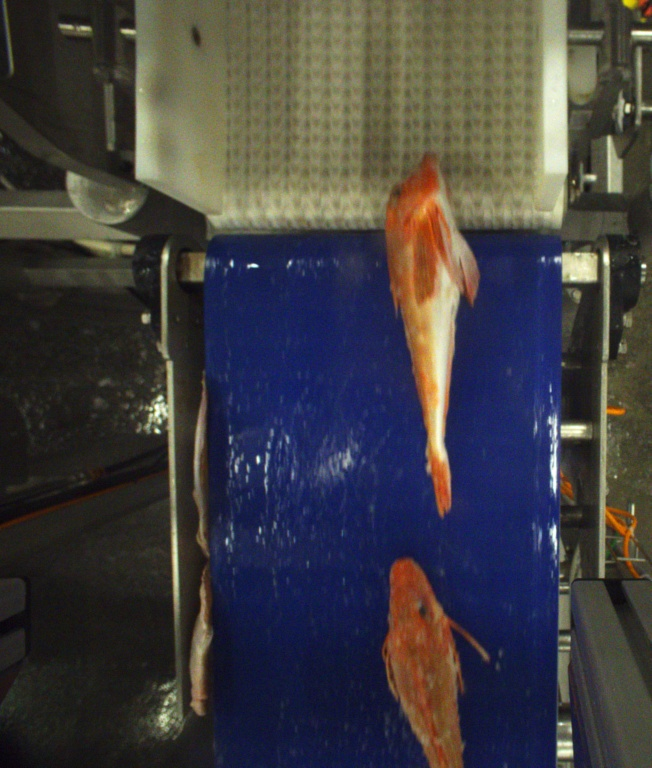GUU: (388, 154, 474, 518)
